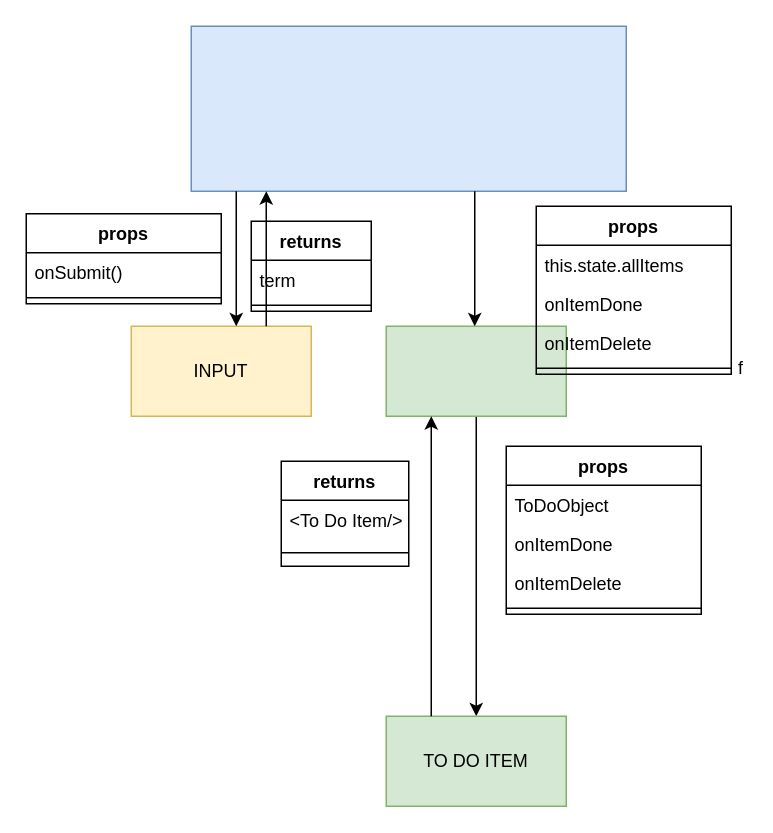
The diagram is 773 pixels wide and 833 high, and some of its shapes have lost their labels. The shapes that lost their labels are listed below. From the top down, each one's centre as x and y in pixels, then its label:
At pixel 408 108: "APP".
At pixel 475 370: "TO DO LIST".
